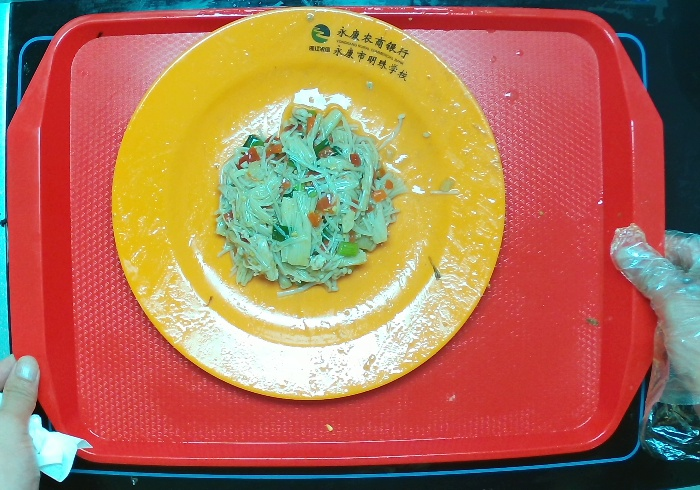YKMZ-Ju_Se_Mian_Pan: (108, 4, 504, 398)
